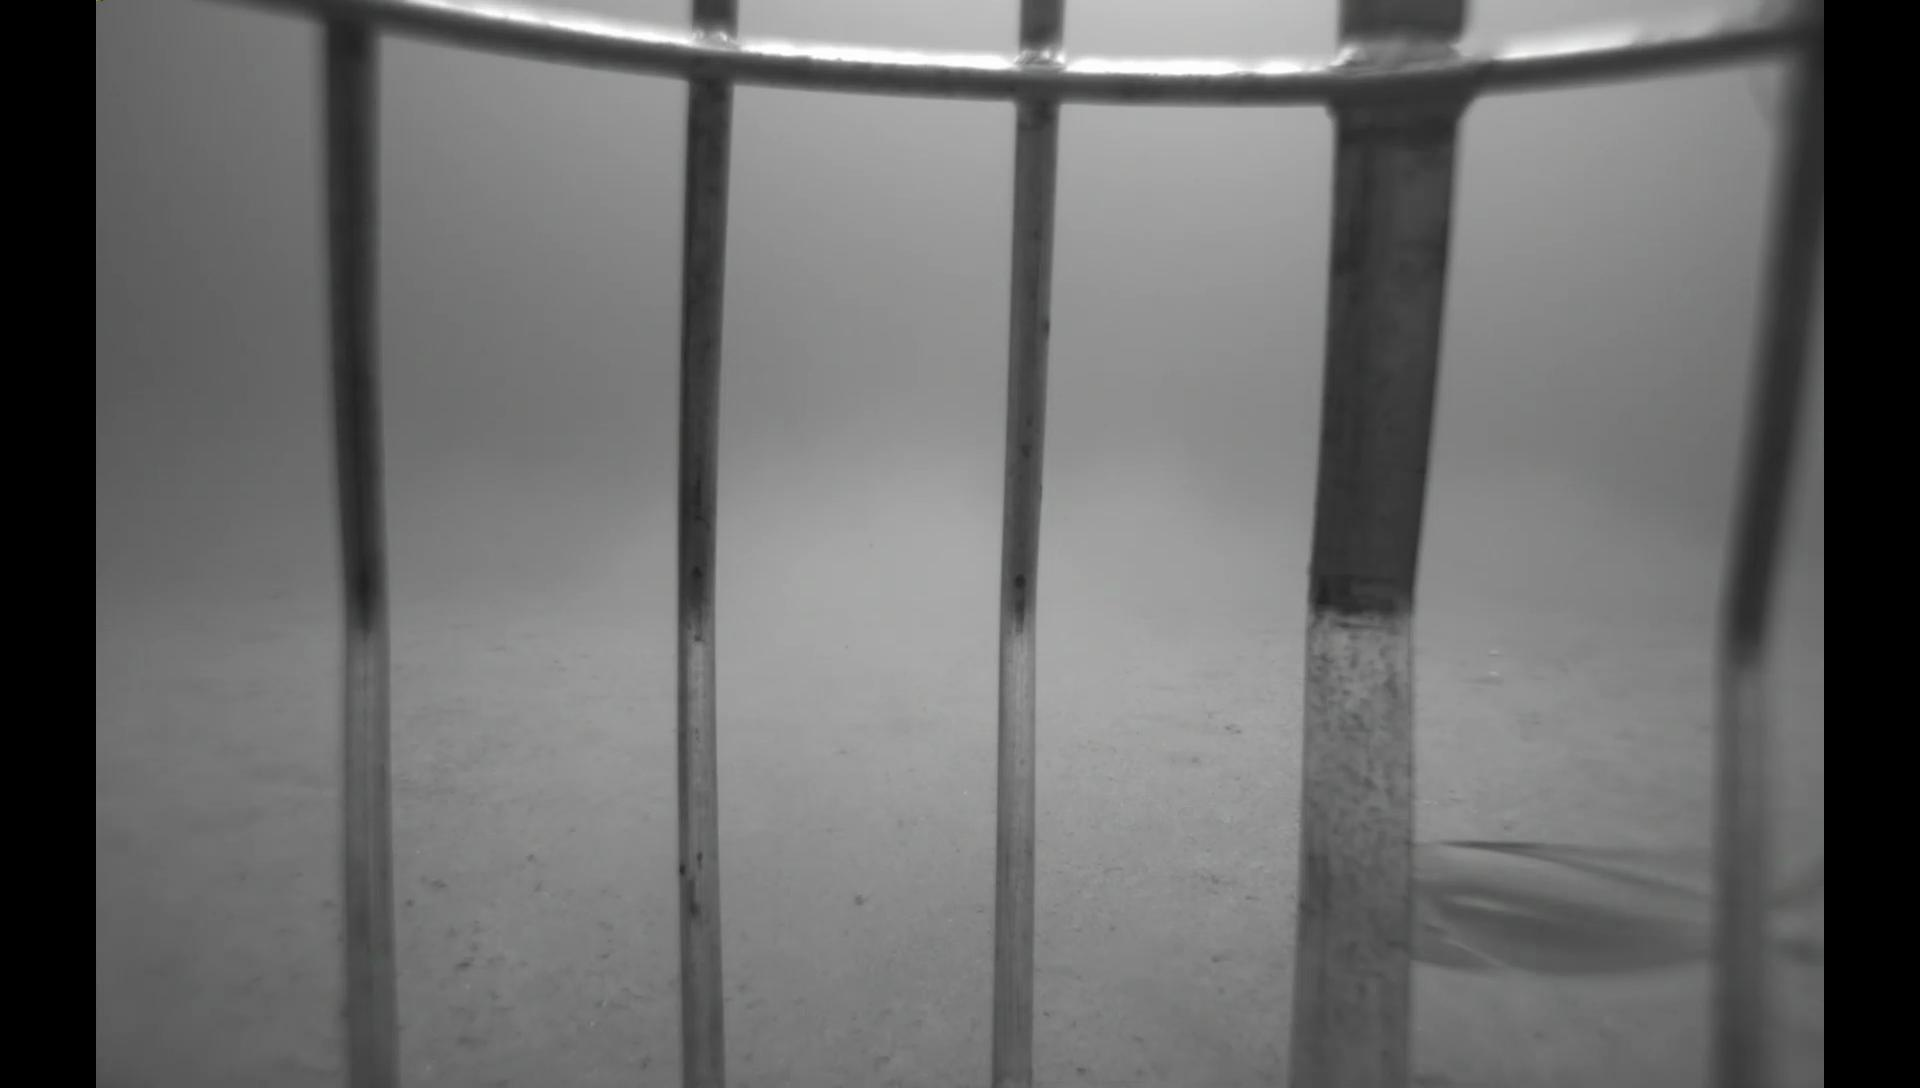CAULOLATILUSCYANOPS-170070101: (1408, 818, 1822, 986)
SYACIUM-183011000: (1141, 699, 1247, 742)
